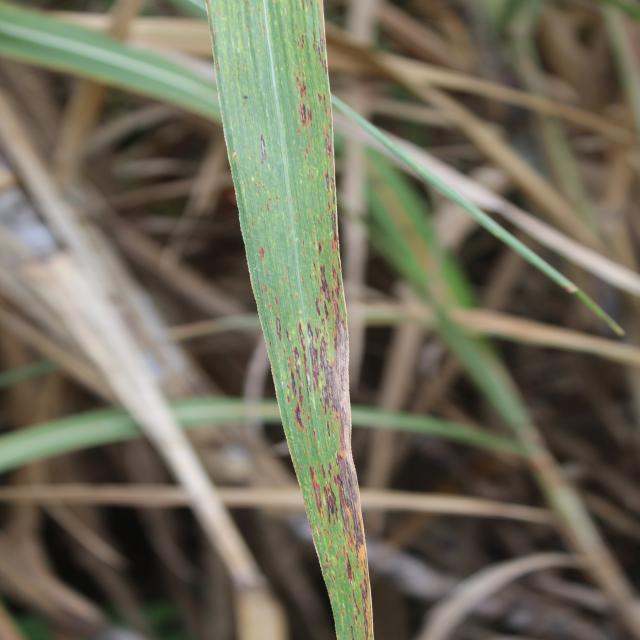Sugarcane: (206, 3, 376, 636), (0, 1, 230, 120)
